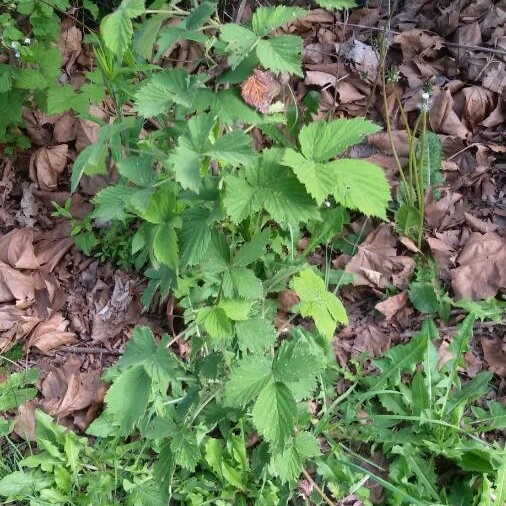obstacle: (58, 32, 376, 476)
